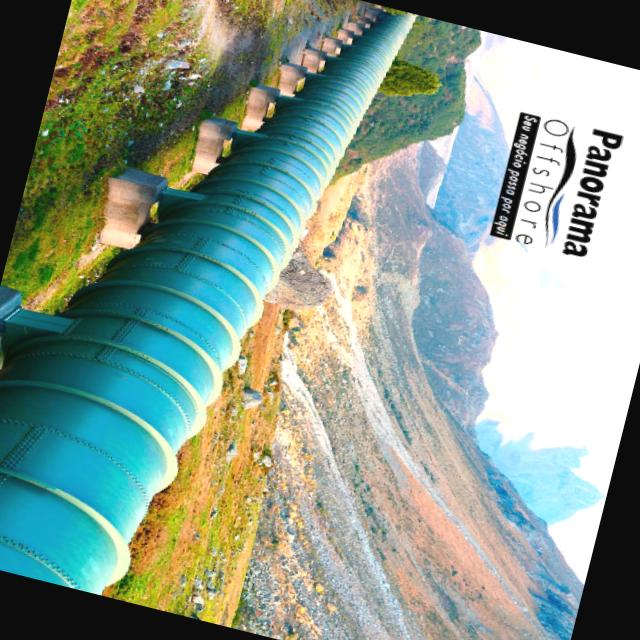gas: (0, 14, 414, 594)
